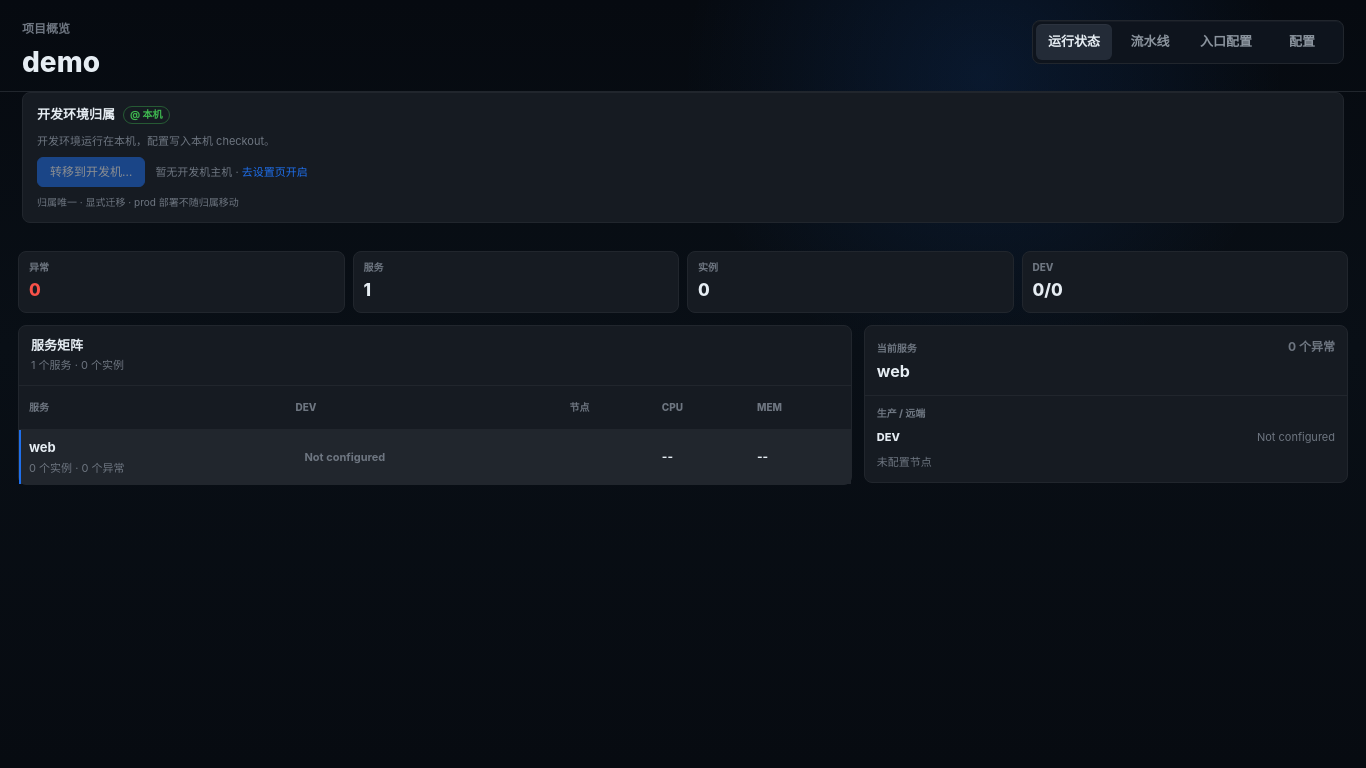
Test: ProjectOverviewPage › switches to project config as a top-level overview tab
The width and height of the screenshot is (1366, 768).
Click the button with test id "overview-tab-config".
click(1302, 42)  # box [1264,24,1340,60]
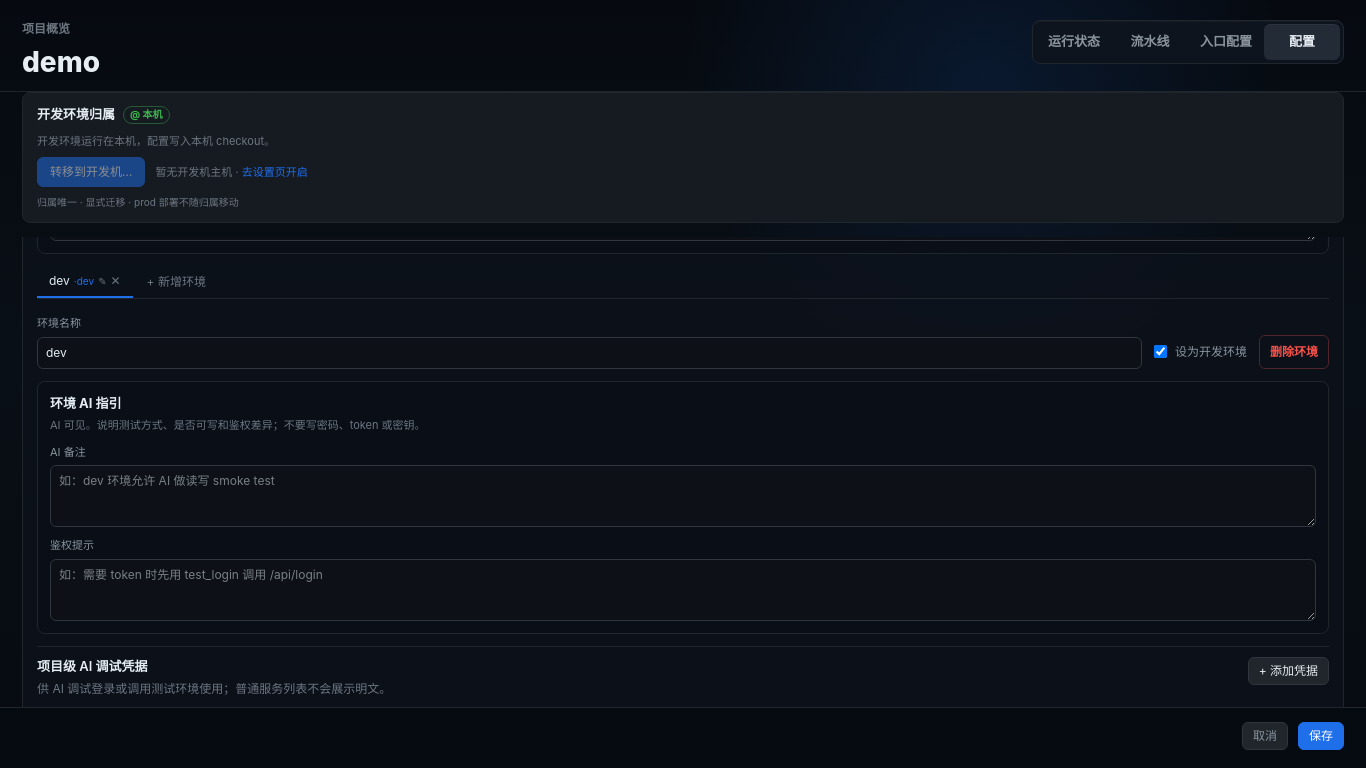
expect the element with test id "project-config-surface" is shown: met
expect the element with test id "env-settings" shows "设为开发环境": met, box [1175,344,1247,358]
